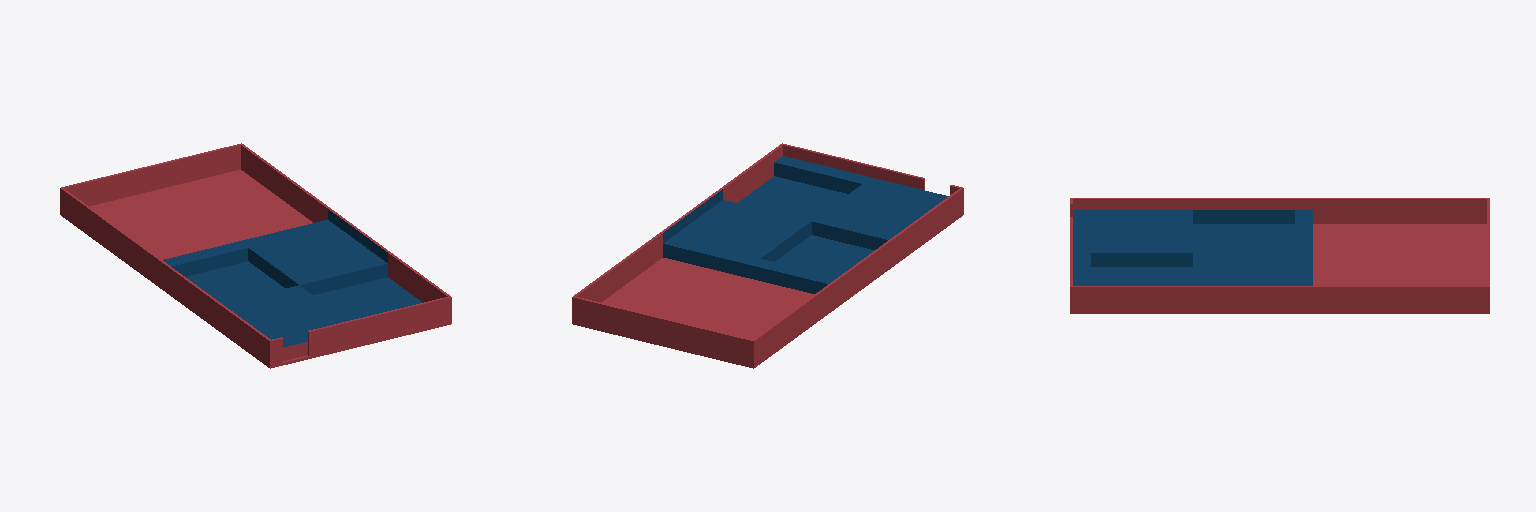
The model's file is body.obj.
The picture shows the model from 3 angles: view 1: azimuth 30°, elevation 25°; view 2: azimuth 150°, elevation 25°; view 3: azimuth 270°, elevation 25°; orthographic projection.
Visible parts, largest first — view 1: body_Cube; view 2: body_Cube; view 3: body_Cube.
Boxes of the visible parts, <box> form: body_Cube: <box>60,143,451,368</box>; body_Cube: <box>572,143,963,368</box>; body_Cube: <box>1070,198,1489,313</box>.
Bounding box in the file's own units: 7 × 1 × 14.